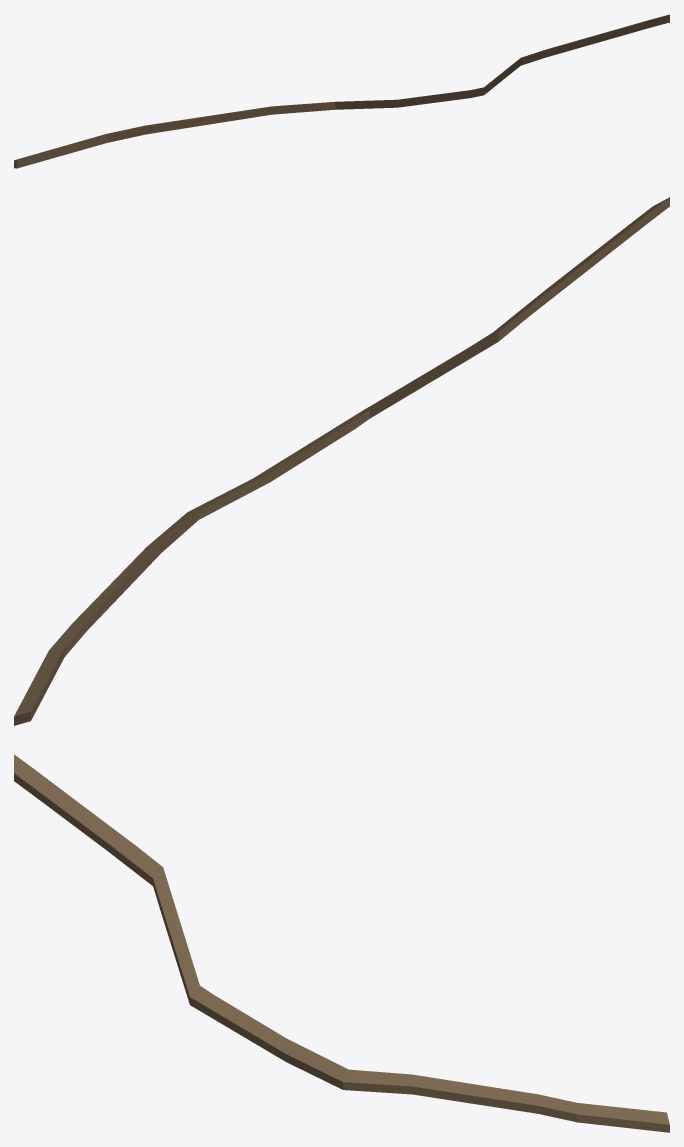
3 renders of one model, top to bottom at view 1: azimuth 90°, elevation 25°; view 2: azimuth 150°, elevation 25°; view 3: azimuth 270°, elevation 25°, orthographic. The views are drawn at different scales.
Size of the model in its own units: 22.62 by 23.32 by 52.07.
